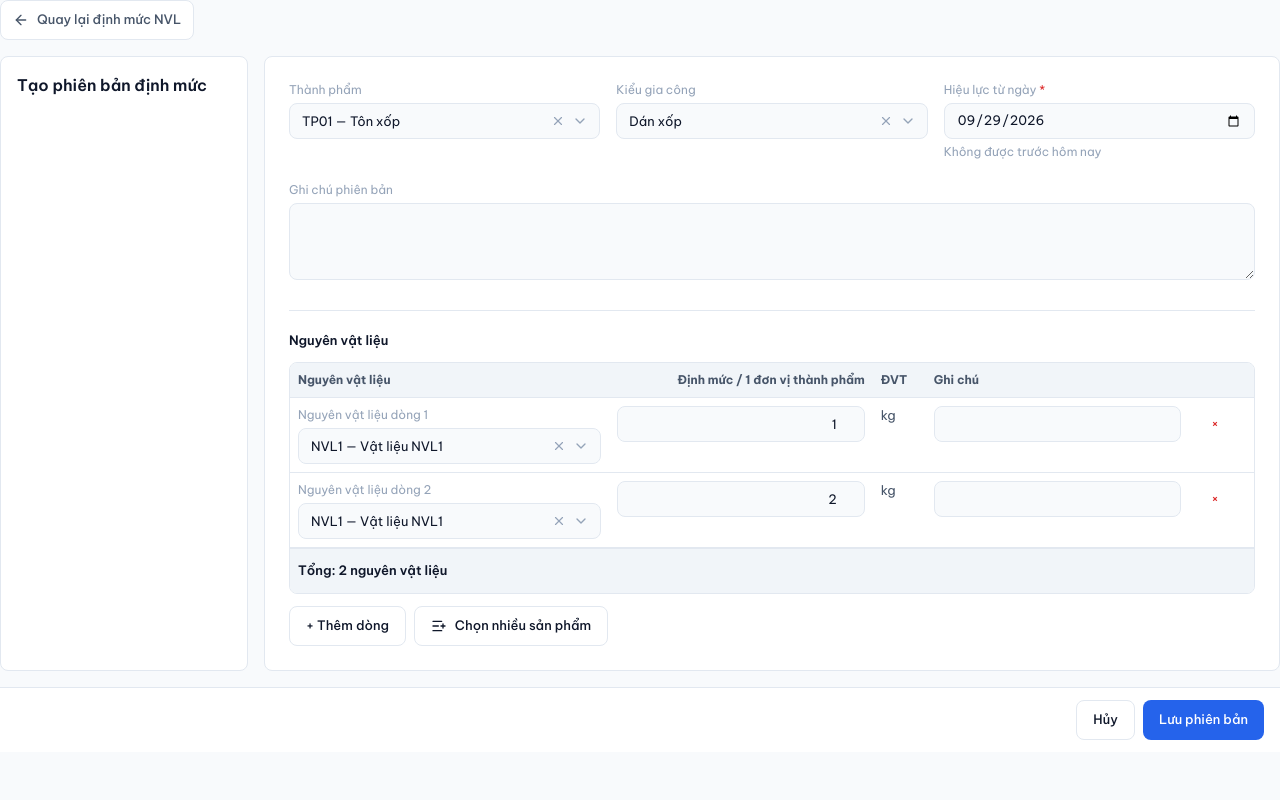
Scenario: BomNewForm (/production/bom/new) › nguyên vật liệu trùng → báo lỗi, không POST
Step 1. Click the button "Lưu phiên bản" → (1203, 720), box [1143, 700, 1264, 740]
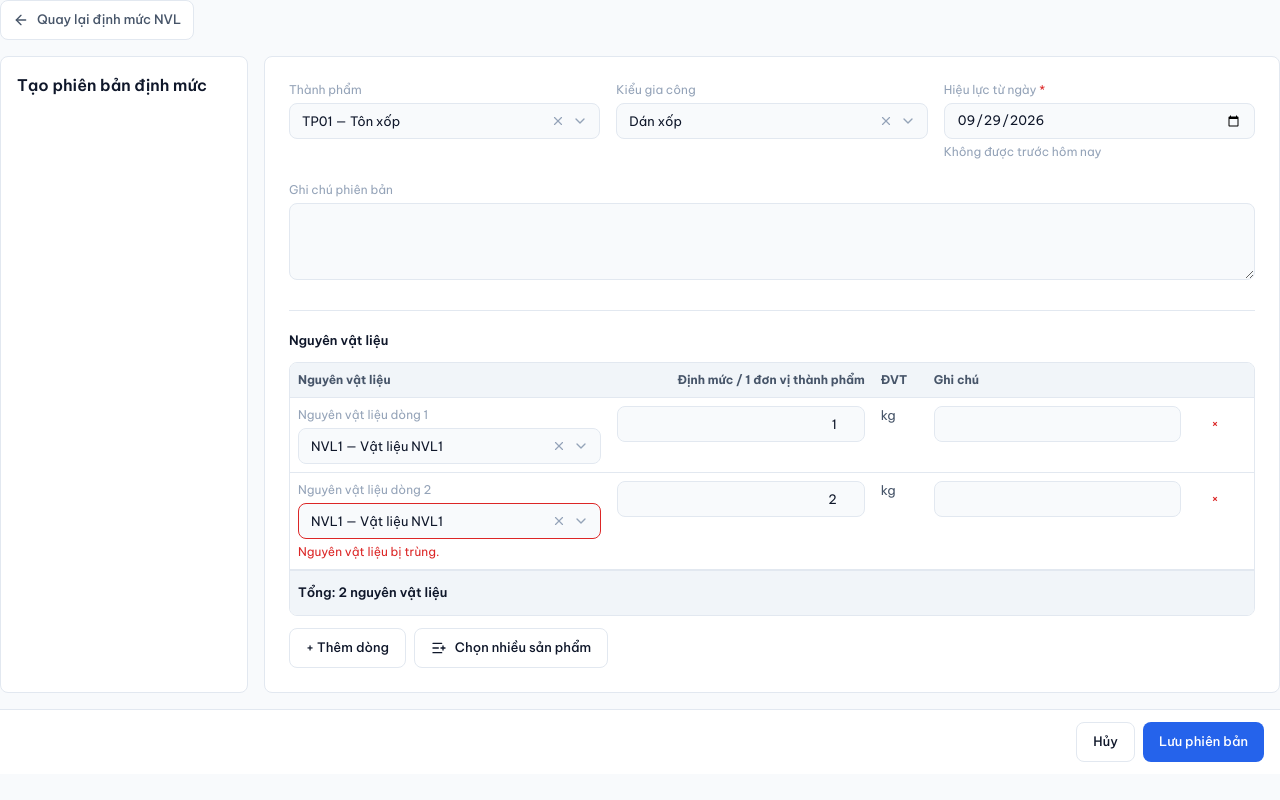
Result: the text "Nguyên vật liệu bị trùng." is shown at [298, 544, 439, 559]
